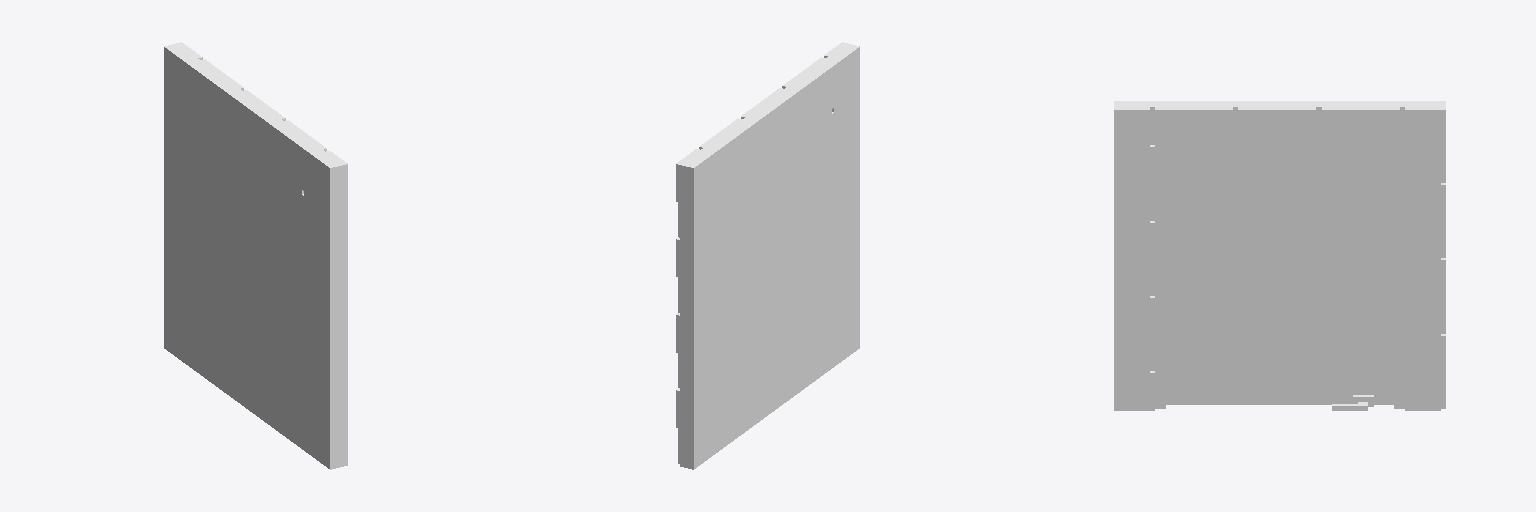
File: dive_bar_door_m.obj
3 renders of one model, left to right at view 1: azimuth 30°, elevation 25°; view 2: azimuth 150°, elevation 25°; view 3: azimuth 270°, elevation 25°, orthographic.
Bounding box in the file's own units: 4 × 64 × 64.